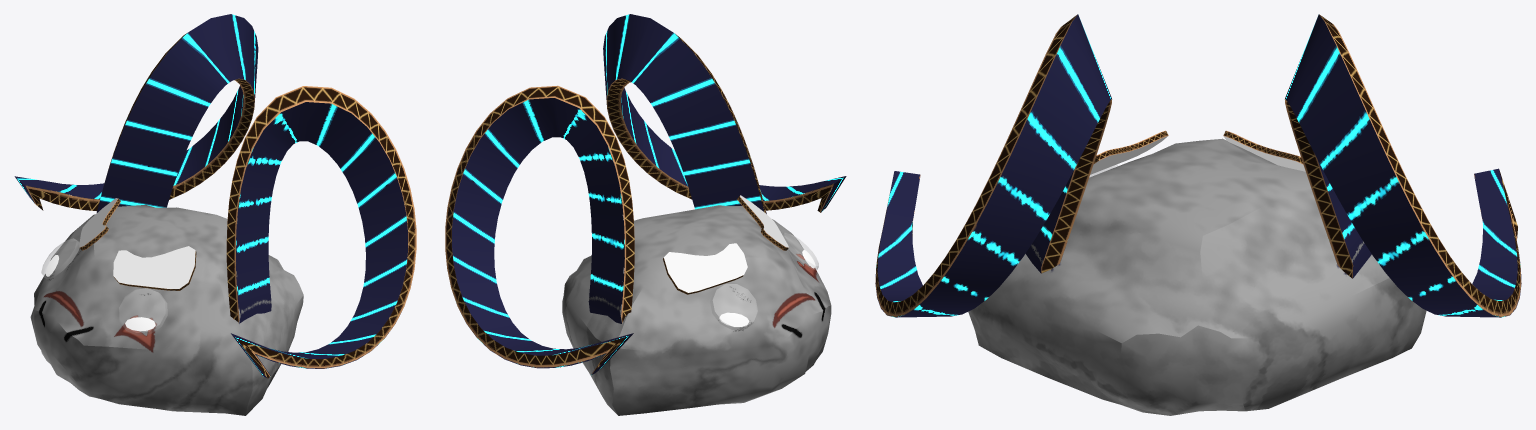
The model's file is Ariesrock.fbx.
3 views of the same model, side by side, from view 1: azimuth 30°, elevation 25°; view 2: azimuth 150°, elevation 25°; view 3: azimuth 270°, elevation 25° (orthographic). The views are drawn at different scales.
Visible parts, largest first — view 1: Circle.001; view 2: Circle.001; view 3: Circle.001.
Boxes of the visible parts, left/top/right/bottom form: Circle.001: left=14, top=14, right=416, bottom=415; Circle.001: left=445, top=14, right=846, bottom=415; Circle.001: left=875, top=14, right=1521, bottom=415.
Size of the model in its own units: 324 by 326 by 470.
Materials: 2 (1 with a texture image).
